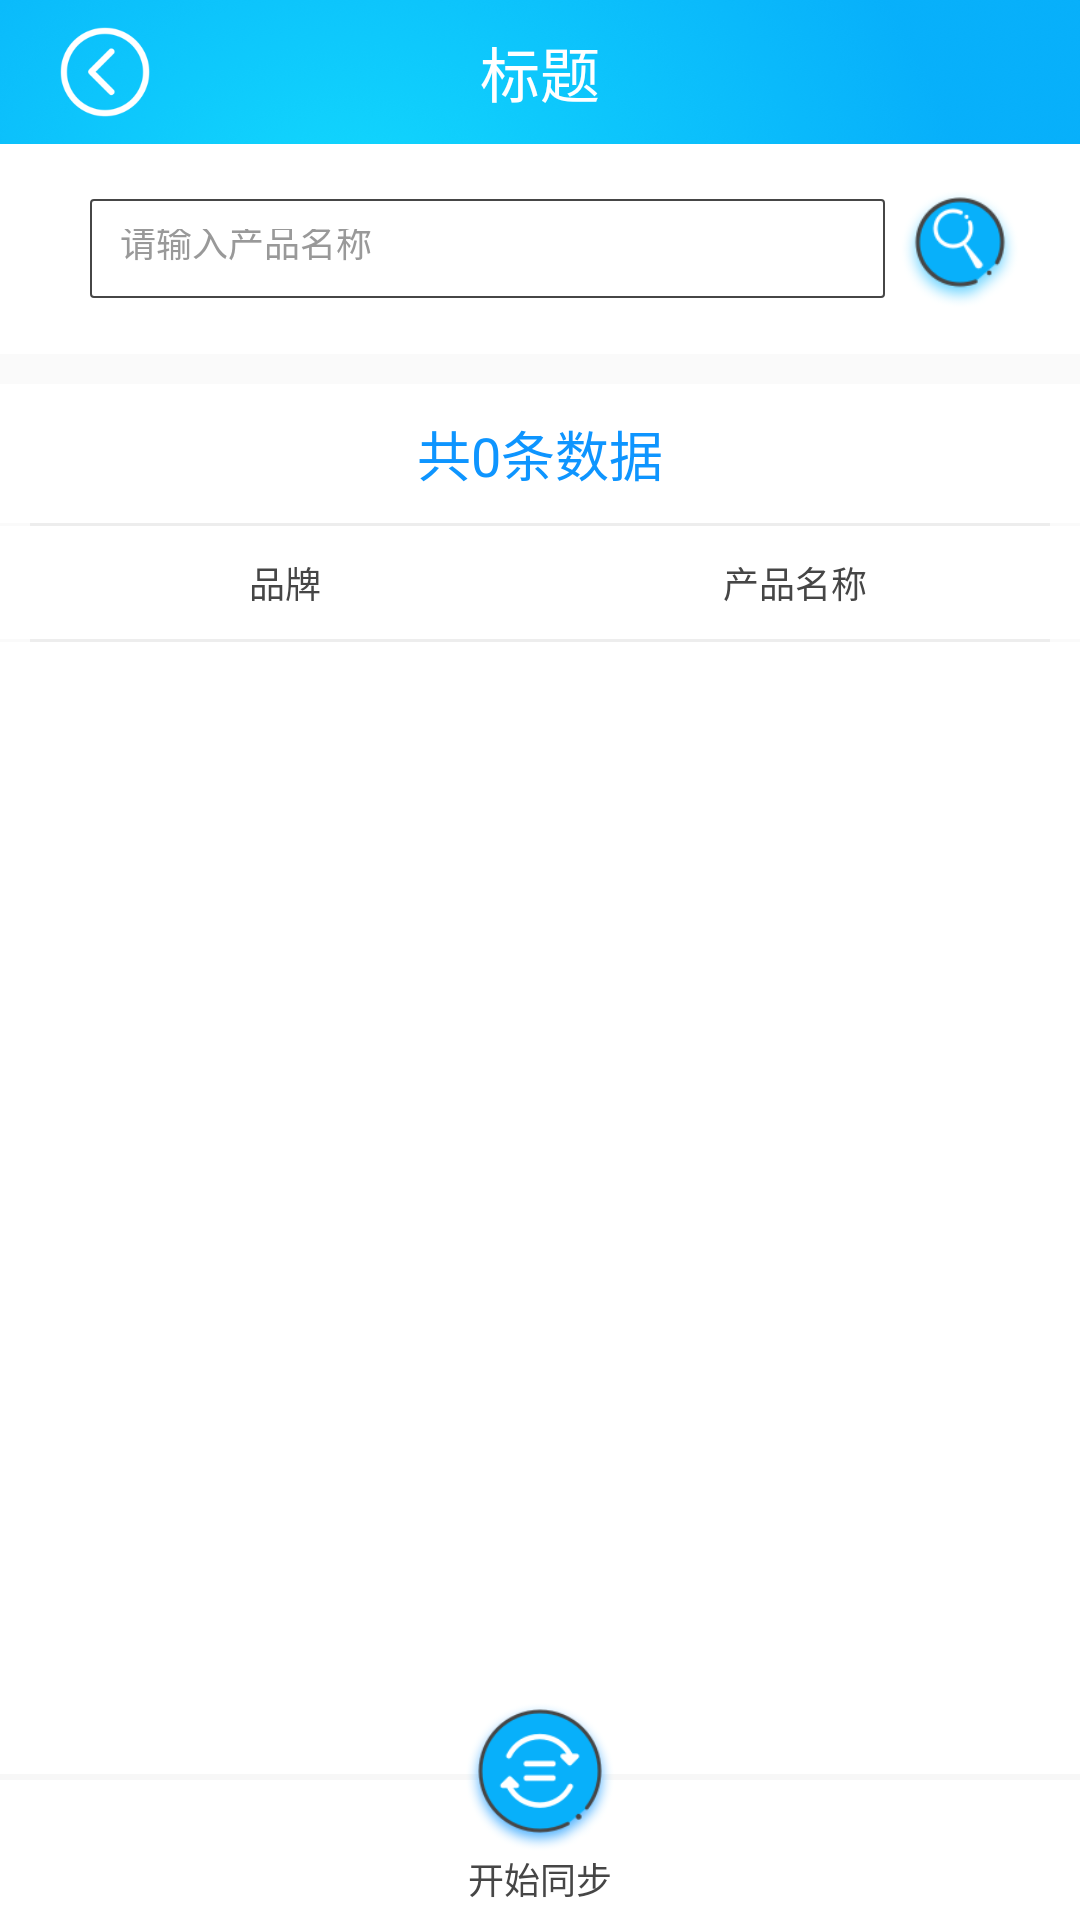

Icon bounding boxes for this 1080 × 1920 phone screenshot, format (x1, y1, x2, y2):
back: (60, 27, 150, 117)
search: (909, 197, 1011, 300)
